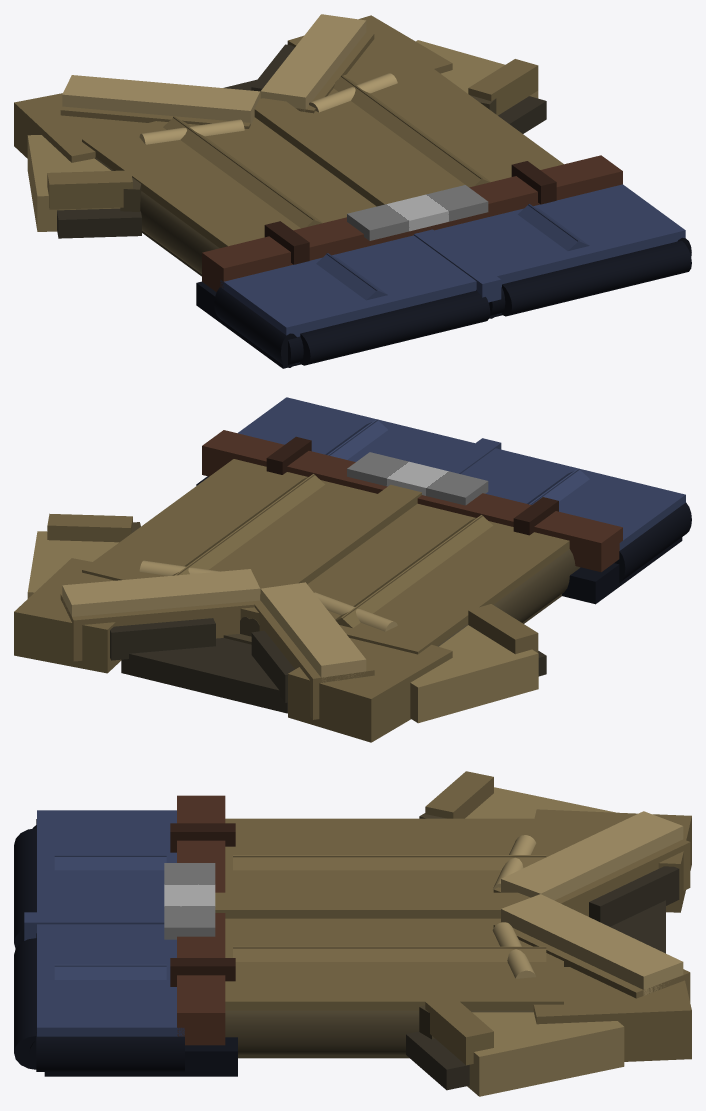
Rendered from CMU3DRMCJumpsuitKhakiWorkwearJacketlessWorldCloud.glb.
3 views of the same model, one above another, from view 1: azimuth 30°, elevation 25°; view 2: azimuth 150°, elevation 25°; view 3: azimuth 270°, elevation 25° (orthographic). The views are drawn at different scales.
Visible parts, largest first — view 1: left shirt front continuous cloth panel, right shirt front continuous cloth panel, left folded trouser panel continuous cloth panel, right folded trouser panel continuous cloth panel, continuous attached waist belt, left turned collar face, right turned trouser hem, left turned trouser hem, continuous center button placket, right turned collar face, original small waist clasp, left continuous shoulder cloth (+24 smaller); view 2: left shirt front continuous cloth panel, right shirt front continuous cloth panel, continuous attached waist belt, left continuous shoulder cloth, left folded trouser panel continuous cloth panel, left sloping sleeve cloth, right folded trouser panel continuous cloth panel, recessed inner neck facing, right turned collar face, right continuous shoulder cloth, left turned collar face, continuous center button placket (+22 smaller); view 3: right shirt front continuous cloth panel, left shirt front continuous cloth panel, right folded trouser panel continuous cloth panel, left folded trouser panel continuous cloth panel, right sloping sleeve cloth, right shirt front right turned edge, right continuous shoulder cloth, continuous center button placket, continuous attached waist belt, right turned collar face, left turned collar face, right folded trouser panel right turned edge (+25 smaller).
Boxes of the visible parts, x1,y1,x2,y2 form: left shirt front continuous cloth panel: [82, 117, 376, 247]; right shirt front continuous cloth panel: [300, 57, 563, 196]; left folded trouser panel continuous cloth panel: [220, 235, 476, 363]; right folded trouser panel continuous cloth panel: [434, 184, 685, 314]; continuous attached waist belt: [202, 155, 622, 291]; left turned collar face: [62, 75, 260, 124]; right turned trouser hem: [501, 241, 691, 316]; left turned trouser hem: [299, 291, 490, 365]; continuous center button placket: [254, 98, 416, 206]; right turned collar face: [260, 14, 366, 111]; original small waist clasp: [347, 185, 488, 240]; left continuous shoulder cloth: [14, 93, 146, 162]; left shirt front continuous cloth panel: [250, 503, 569, 654]; right shirt front continuous cloth panel: [82, 459, 377, 619]; continuous attached waist belt: [202, 430, 622, 572]; left continuous shoulder cloth: [288, 638, 452, 742]; left folded trouser panel continuous cloth panel: [460, 448, 685, 550]; left sloping sleeve cloth: [410, 625, 538, 723]; right folded trouser panel continuous cloth panel: [237, 397, 474, 468]; recessed inner neck facing: [121, 638, 287, 713]; right turned collar face: [62, 569, 260, 616]; right continuous shoulder cloth: [14, 558, 121, 673]; left turned collar face: [260, 582, 366, 682]; continuous center button placket: [257, 484, 421, 600]; right shirt front continuous cloth panel: [225, 918, 563, 1010]; left shirt front continuous cloth panel: [225, 818, 563, 892]; right folded trouser panel continuous cloth panel: [37, 924, 184, 1036]; left folded trouser panel continuous cloth panel: [37, 810, 176, 912]; right sloping sleeve cloth: [467, 1012, 624, 1096]; right shirt front right turned edge: [225, 1010, 533, 1054]; right continuous shoulder cloth: [533, 967, 691, 1061]; continuous center button placket: [215, 892, 530, 918]; continuous attached waist belt: [177, 795, 225, 1045]; right turned collar face: [501, 894, 683, 995]; left turned collar face: [501, 811, 683, 900]; right folded trouser panel right turned edge: [36, 1032, 184, 1071].
Size of the model in its own units: 0.3961 by 0.05 by 0.4159.
10 materials, 1 textured.
